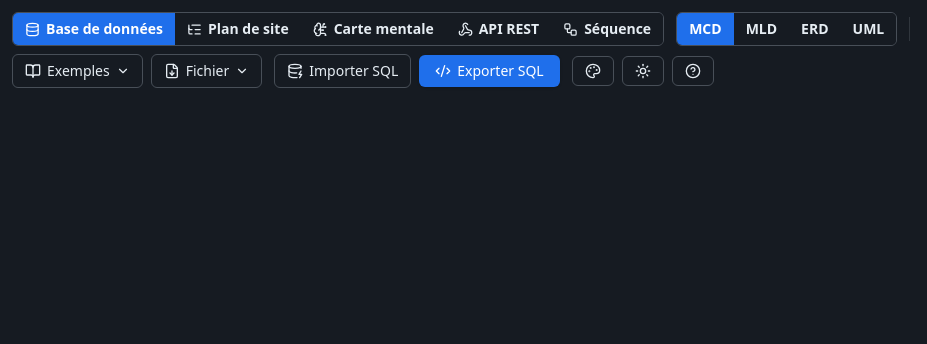
HeaderToolbar › le menu Fichier propose l'export PDF et les images
Expected: the text "PDF" is not shown
What coordinates should you click on to do the following:
click the button "Fichier"
I would click on:
 (206, 71)
Its box is [151,54,262,88].
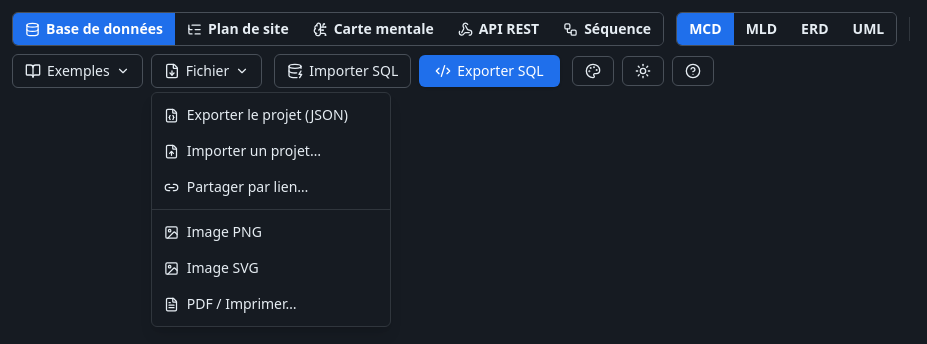
Expected: the text "Exporter le projet (JSON)" is shown, [152,97,390,133]
Expected: the text "Image PNG" is shown, [152,214,390,250]
Expected: the text "Image SVG" is shown, [152,250,390,286]
